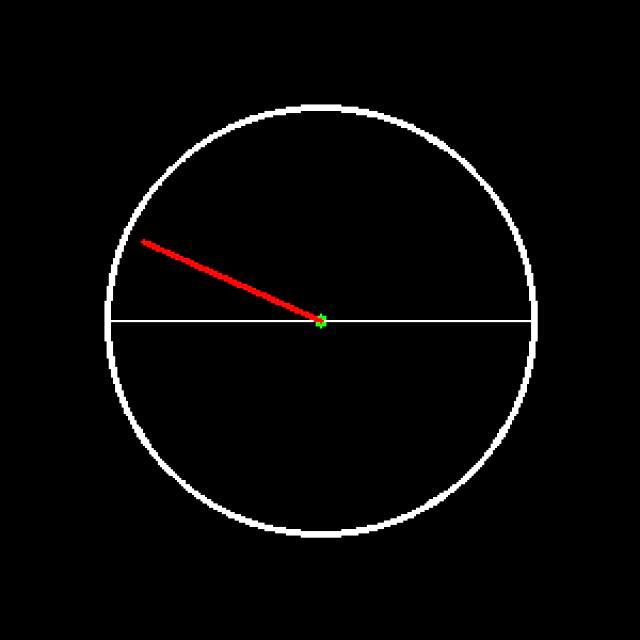Needle_Tip: (120, 236, 184, 270)
Needle_base: (289, 300, 343, 347)
